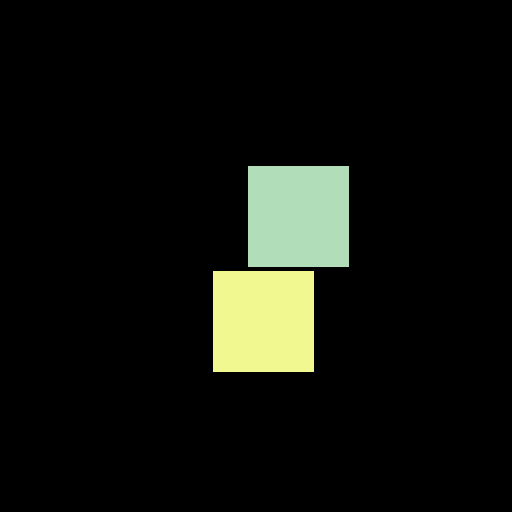square: (213, 271, 313, 371), (248, 166, 348, 266)
